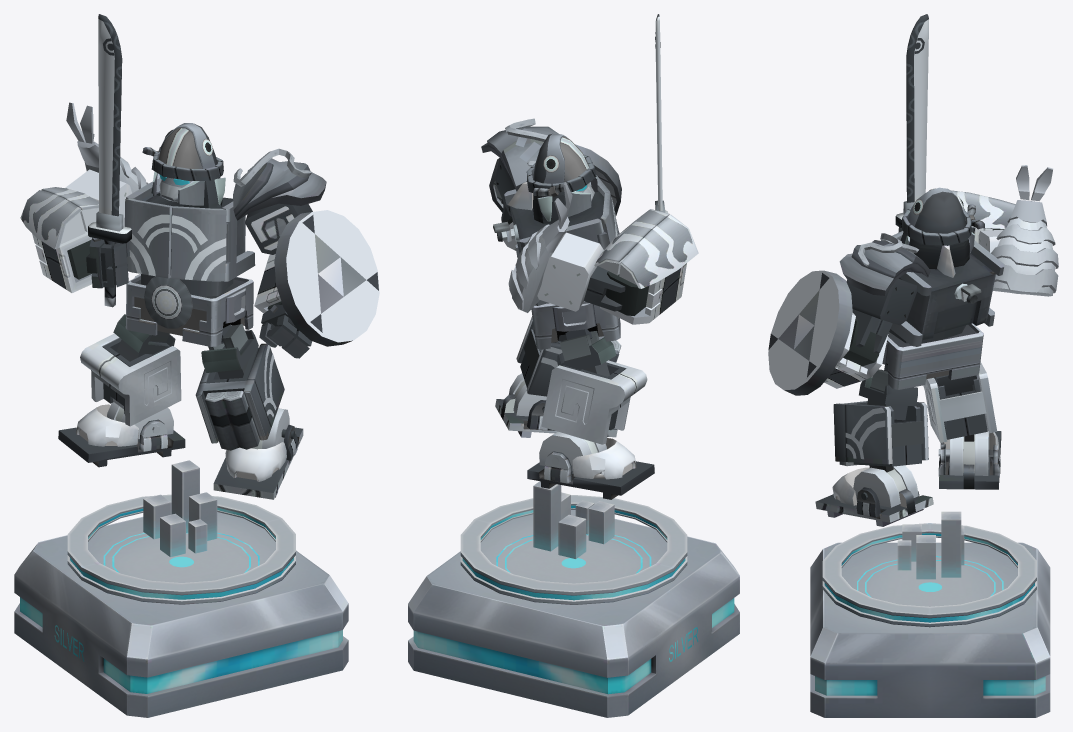
Rendered from my_trophy_kaiten_city_silver.glb.
3 renders of one model, left to right at view 1: azimuth 30°, elevation 25°; view 2: azimuth 150°, elevation 25°; view 3: azimuth 270°, elevation 25°, orthographic. The views are drawn at different scales.
Visible parts, largest first — view 1: my_trophy_kaiten_city_silver; view 2: my_trophy_kaiten_city_silver; view 3: my_trophy_kaiten_city_silver.
Part boxes in pixels (x1,y1,x2,y2): my_trophy_kaiten_city_silver: (14,14,379,717); my_trophy_kaiten_city_silver: (408,14,739,717); my_trophy_kaiten_city_silver: (768,14,1058,717).
Bounding box in the file's own units: 0.00464 × 0.011 × 0.00472.
3 materials, 3 textured.
